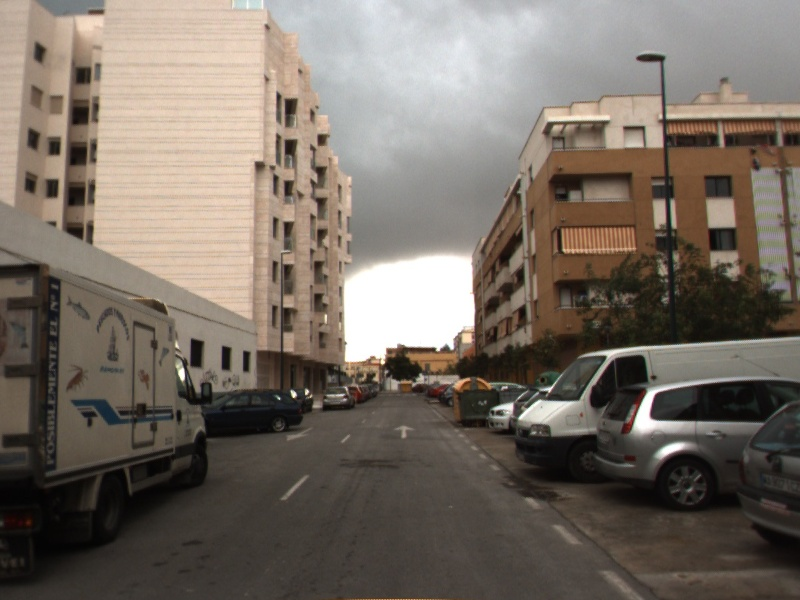STRAIGHT: (390, 423, 419, 441)
